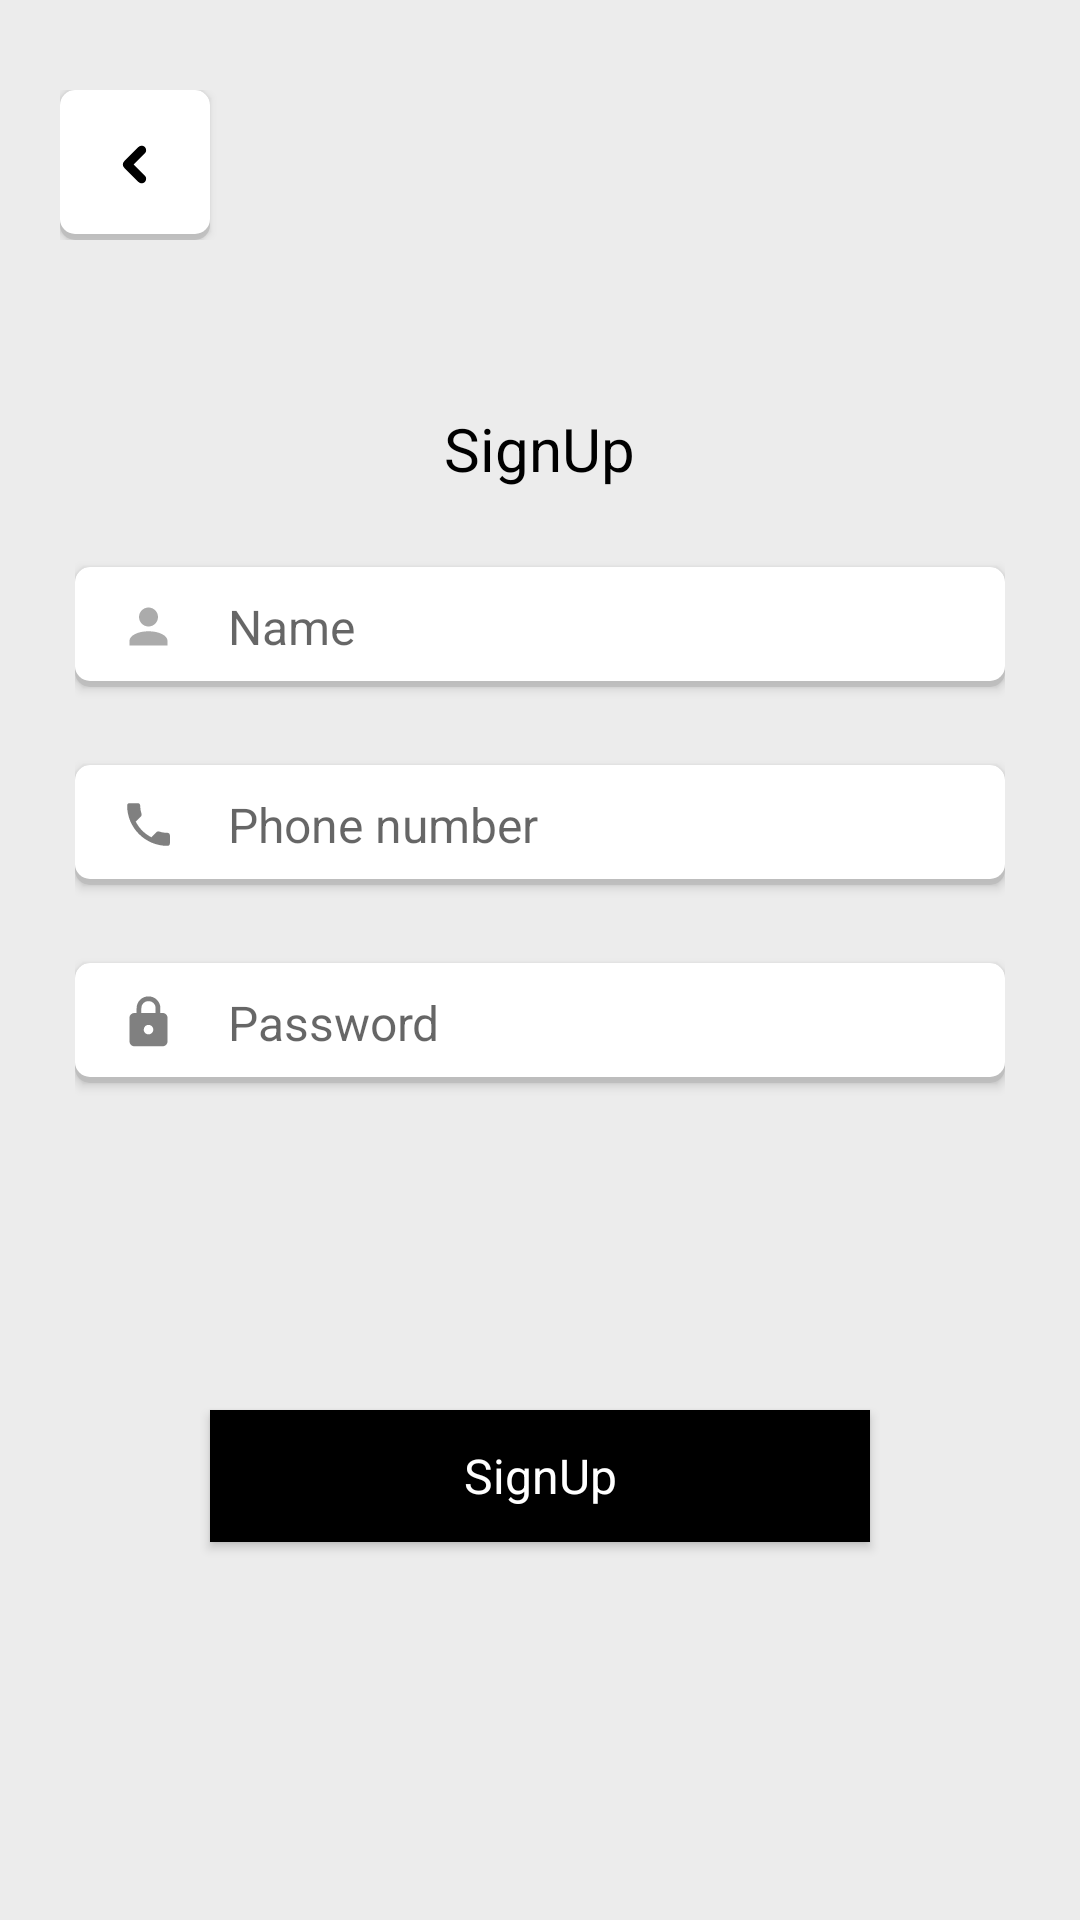

Screen size 1080px x 1920px. Icon name, then its box in pixels as (x1, y1, x2, y2):
user: (129, 607, 168, 646)
